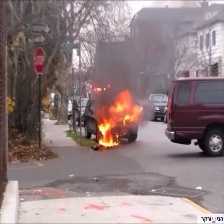fire: (94, 89, 143, 148)
